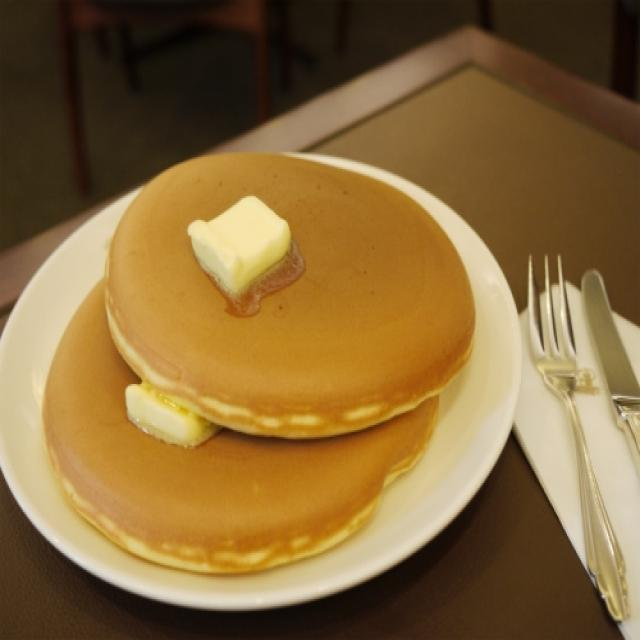蛋糕甜品: (5, 50, 584, 610)
